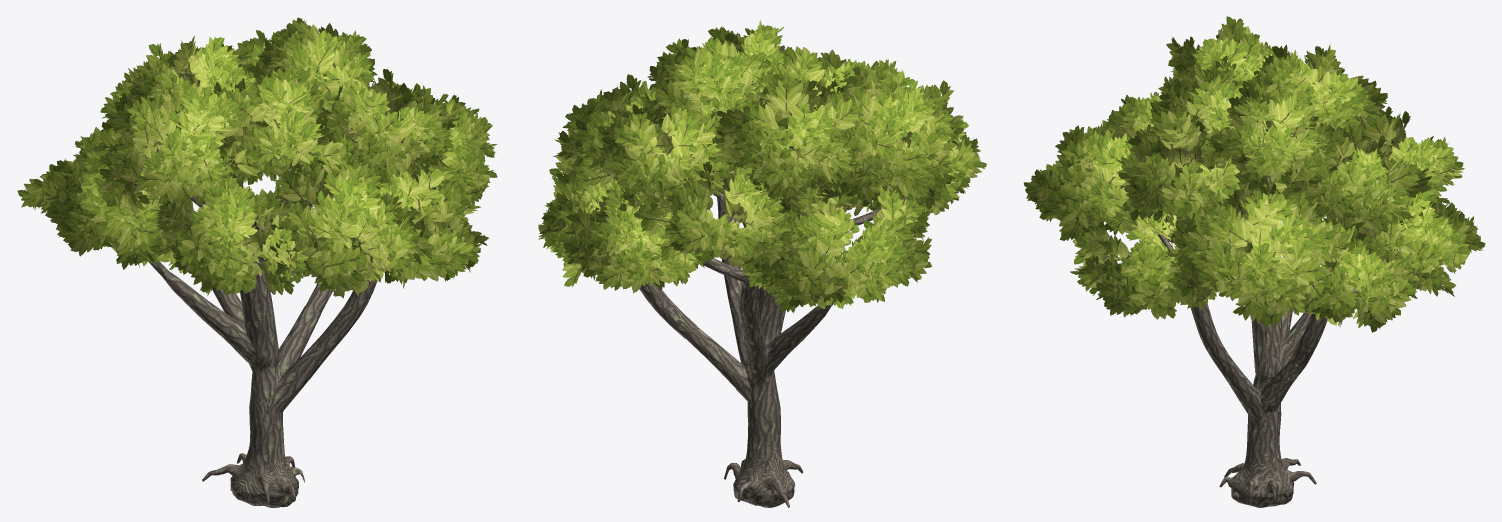
The model's file is environment_elm5_v34.fbx.
The picture shows the model from 3 angles, left to right: view 1: azimuth 30°, elevation 25°; view 2: azimuth 150°, elevation 25°; view 3: azimuth 270°, elevation 25°; orthographic projection. The views are drawn at different scales.
Visible parts, largest first — view 1: environment_elm5_v34_lod0; view 2: environment_elm5_v34_lod0; view 3: environment_elm5_v34_lod0.
Part boxes in pixels (left/top/right/bottom): environment_elm5_v34_lod0: left=17, top=17, right=497, bottom=507; environment_elm5_v34_lod0: left=538, top=20, right=986, bottom=507; environment_elm5_v34_lod0: left=1023, top=16, right=1485, bottom=507.
Size of what is drawn, in the model's own units: 2593 by 2867 by 2768.
2 materials, 2 textured.
